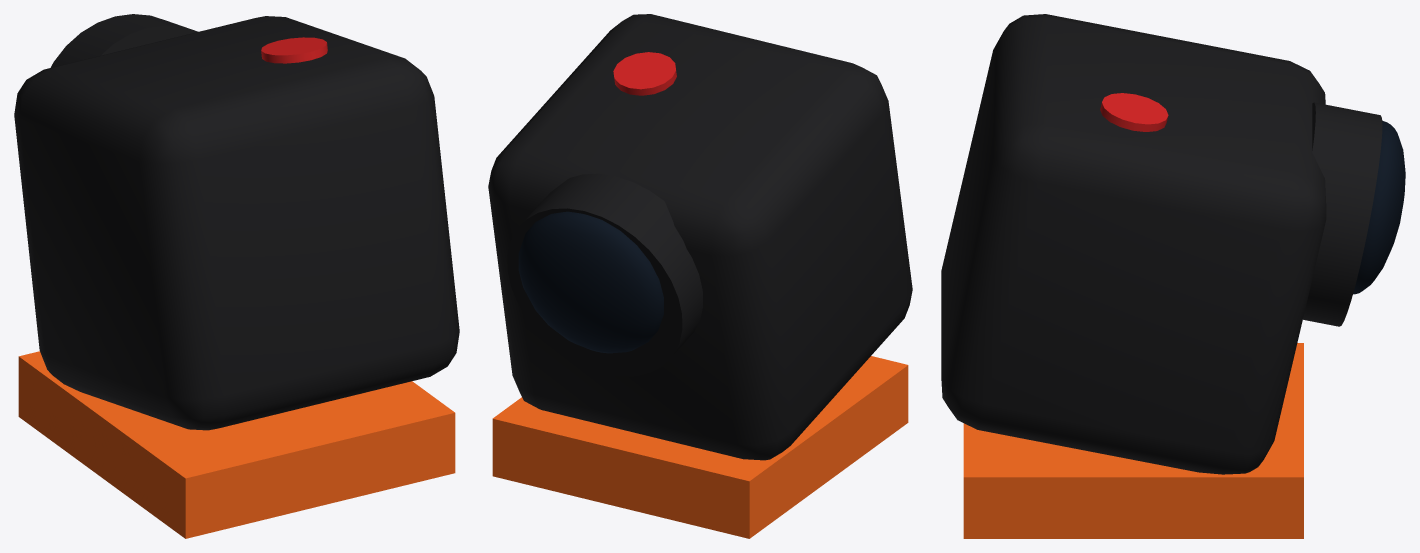
Rendered from actioncam_mini.glb.
The picture shows the model from 3 angles, left to right: view 1: azimuth 30°, elevation 25°; view 2: azimuth 150°, elevation 25°; view 3: azimuth 270°, elevation 25°; orthographic projection. The views are drawn at different scales.
Visible parts, largest first — view 1: actioncam_mini_M_CamBody, actioncam_mini_M_TPU_Orange, actioncam_mini_M_RecRed; view 2: actioncam_mini_M_CamBody, actioncam_mini_M_TPU_Orange, actioncam_mini_M_Glass, actioncam_mini_M_RecRed; view 3: actioncam_mini_M_CamBody, actioncam_mini_M_TPU_Orange, actioncam_mini_M_Glass, actioncam_mini_M_RecRed.
Boxes of the visible parts, left/top/right/bottom form: actioncam_mini_M_CamBody: left=14, top=14, right=459, bottom=430; actioncam_mini_M_TPU_Orange: left=18, top=351, right=455, bottom=538; actioncam_mini_M_RecRed: left=261, top=37, right=327, bottom=63; actioncam_mini_M_CamBody: left=488, top=14, right=912, bottom=460; actioncam_mini_M_TPU_Orange: left=492, top=356, right=908, bottom=538; actioncam_mini_M_Glass: left=518, top=211, right=663, bottom=353; actioncam_mini_M_RecRed: left=613, top=52, right=676, bottom=95; actioncam_mini_M_CamBody: left=941, top=14, right=1382, bottom=474; actioncam_mini_M_TPU_Orange: left=963, top=343, right=1303, bottom=538; actioncam_mini_M_Glass: left=1353, top=120, right=1405, bottom=294; actioncam_mini_M_RecRed: left=1100, top=93, right=1168, bottom=131.
Size of the model in its own units: 0.03 by 0.039 by 0.0409.
